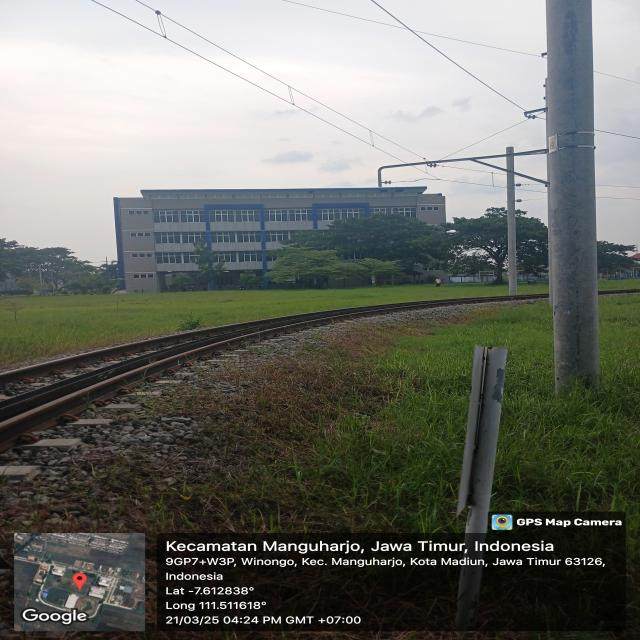rail-detection: (0, 297, 509, 451)
